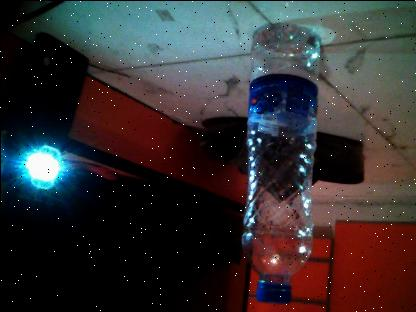Plastic Bottle: (239, 23, 318, 302)
